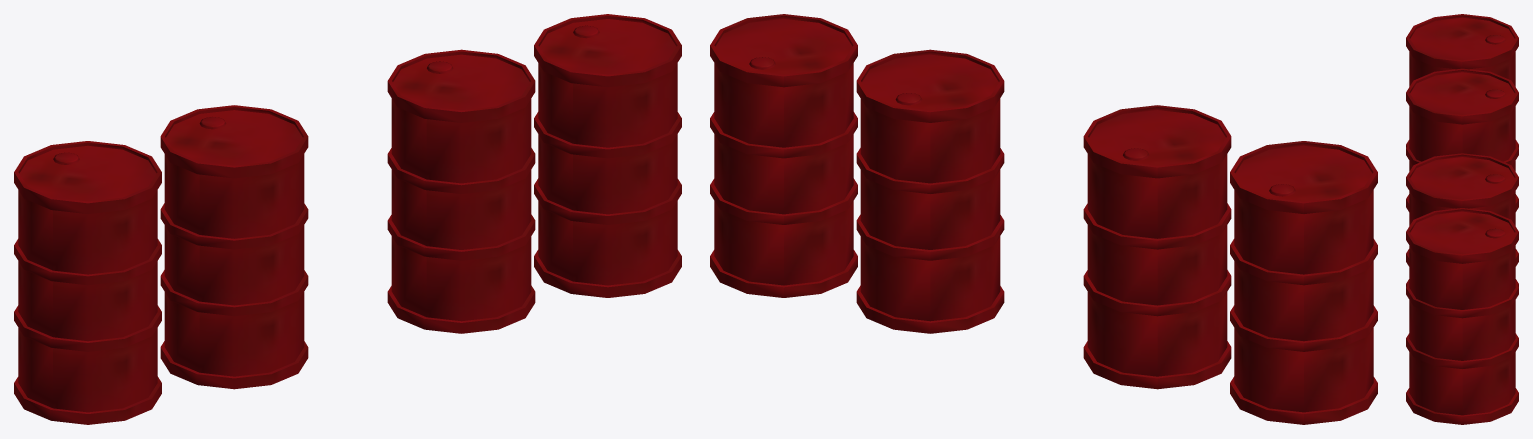
Rendered from mil_barrels.glb.
3 views of the same model, side by side, from view 1: azimuth 30°, elevation 25°; view 2: azimuth 150°, elevation 25°; view 3: azimuth 270°, elevation 25° (orthographic). The views are drawn at different scales.
Visible parts, largest first — view 1: mil_barrels; view 2: mil_barrels; view 3: mil_barrels.
Part boxes in pixels (x1,y1,x2,y2): mil_barrels: [14, 14, 681, 424]; mil_barrels: [710, 14, 1377, 424]; mil_barrels: [1406, 14, 1518, 424].
Size of the model in its own units: 2.75 by 0.9 by 0.5441.
Materials: 1 (1 with a texture image).
